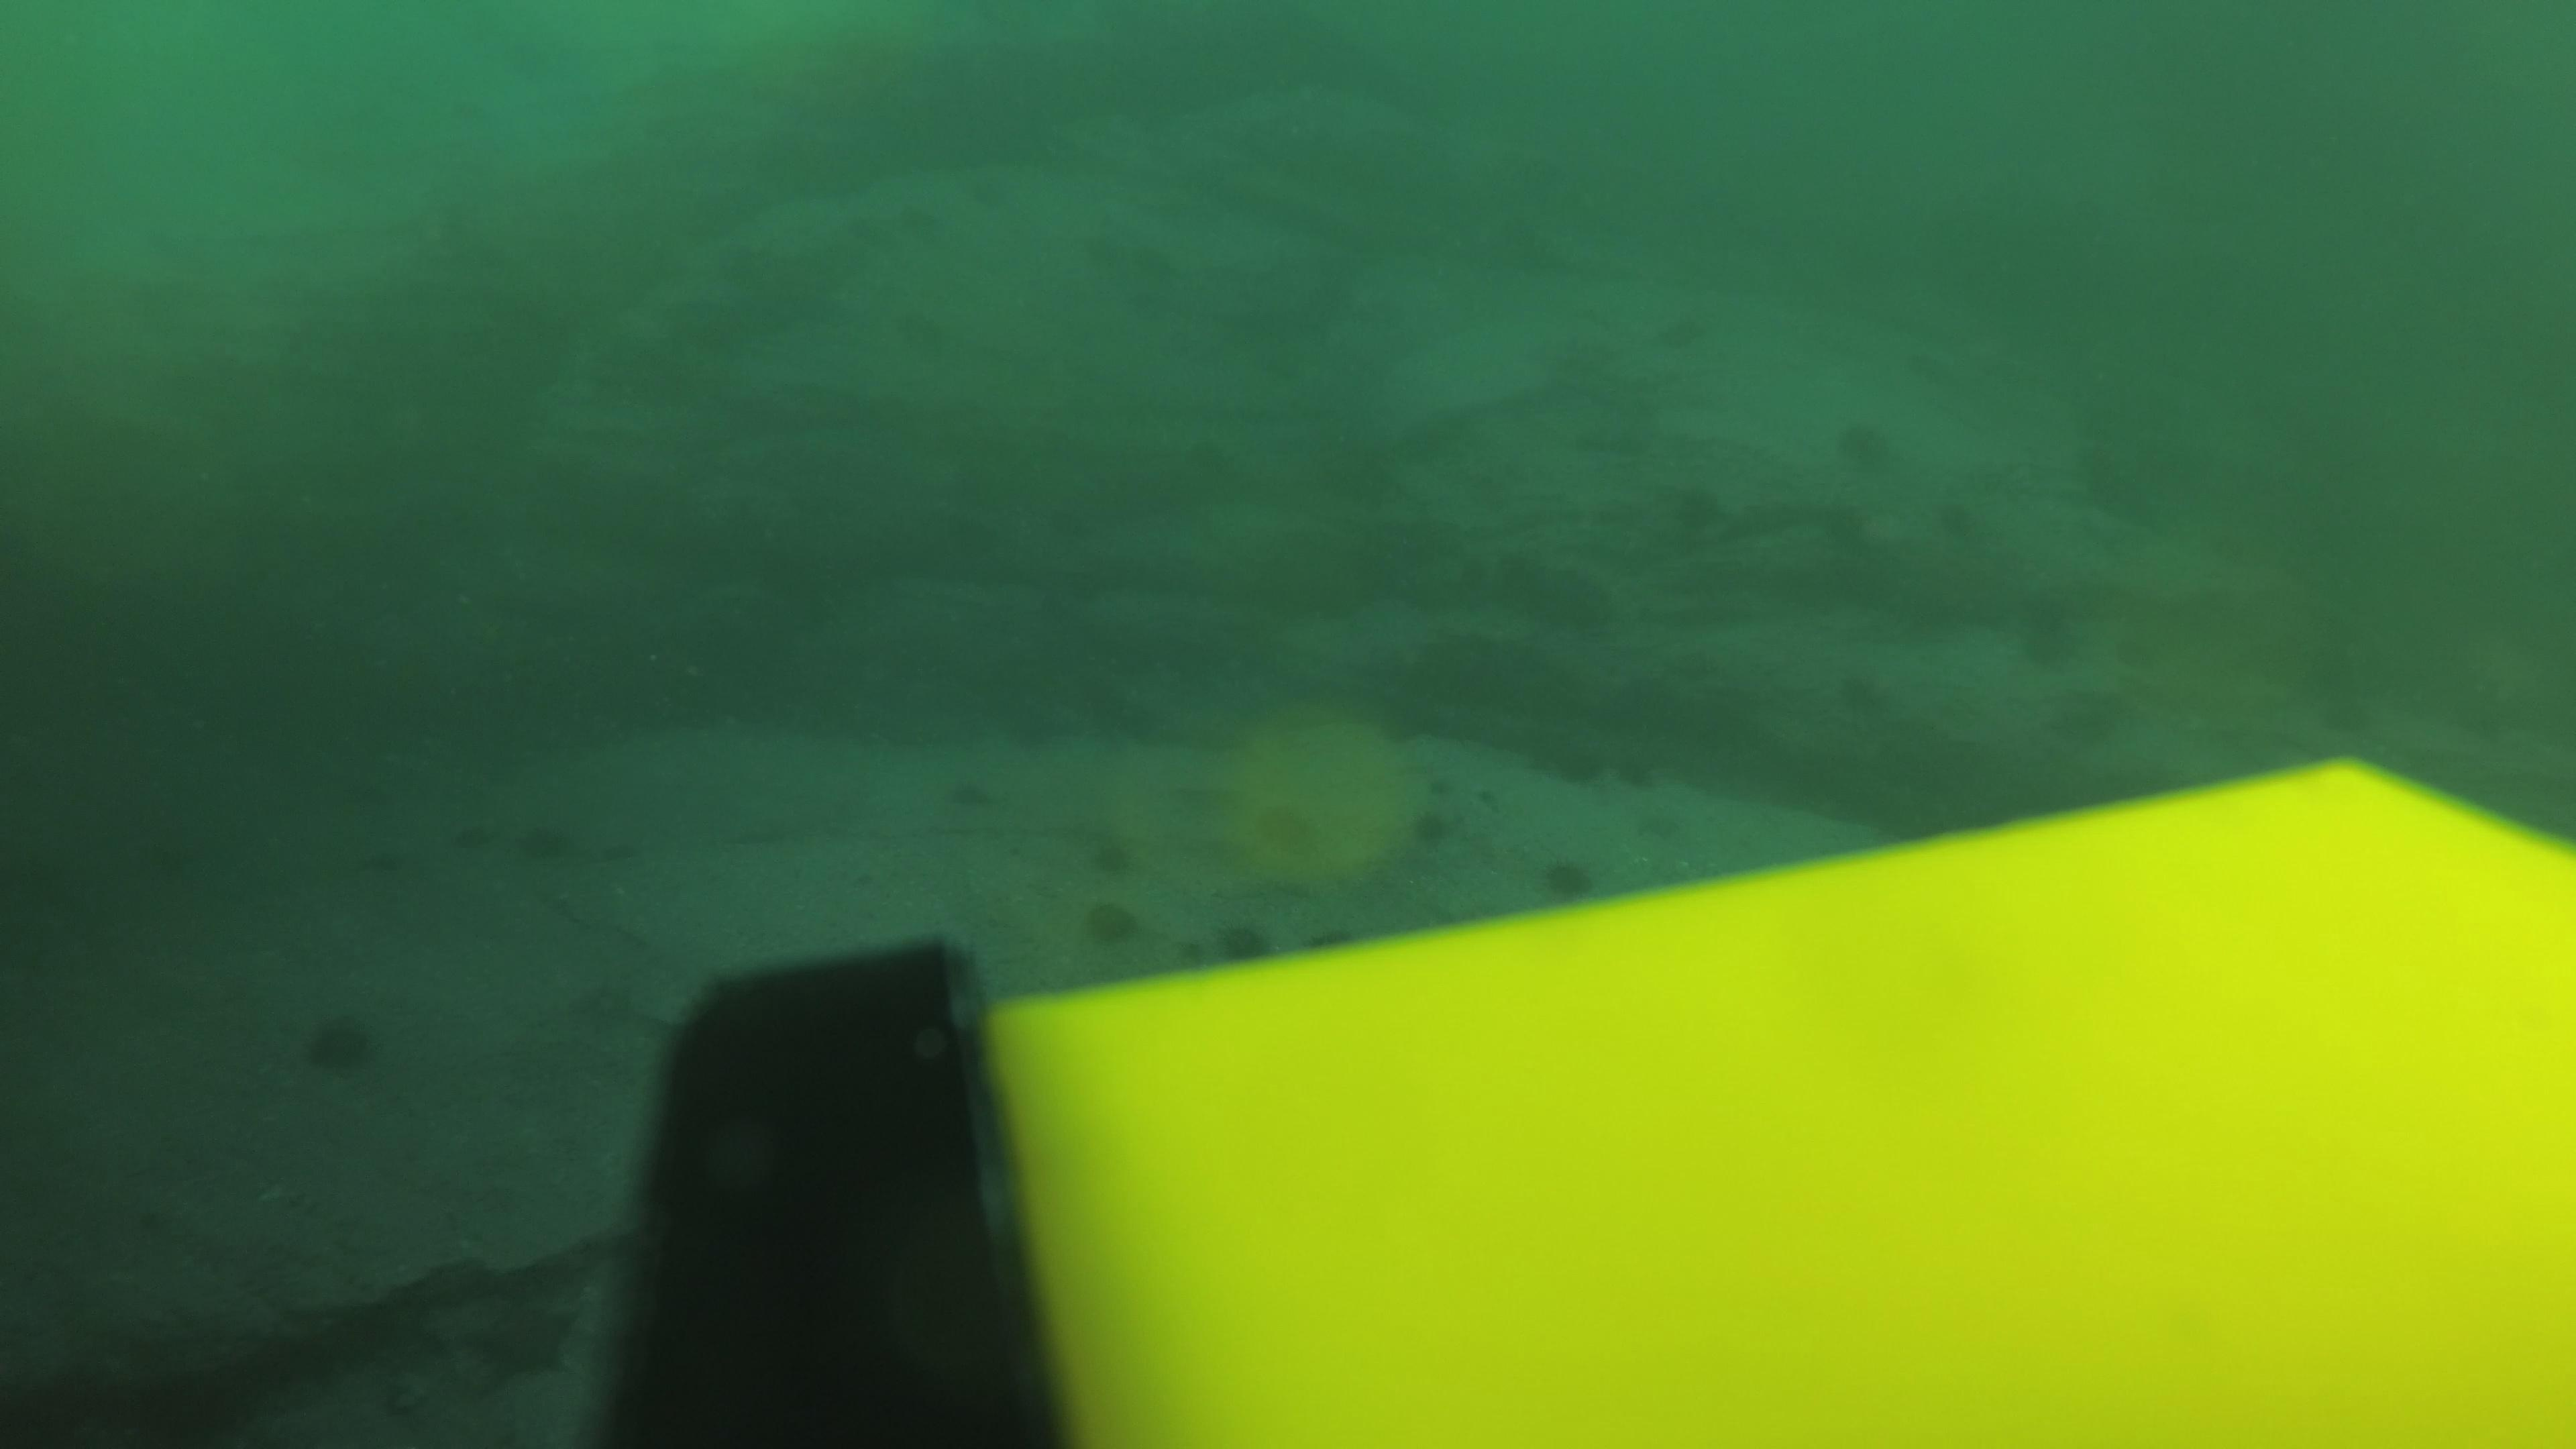echinus: (294, 1003, 387, 1081), (2008, 586, 2095, 669), (1529, 847, 1606, 913), (1203, 911, 1283, 975), (1828, 412, 1900, 478), (1074, 892, 1148, 955), (343, 754, 418, 814), (510, 812, 584, 870), (439, 810, 513, 869), (347, 835, 421, 893), (1350, 699, 1424, 757), (941, 775, 1007, 839), (1065, 679, 1131, 743), (931, 502, 996, 566), (881, 292, 947, 356), (897, 198, 962, 262), (1077, 819, 1141, 883), (984, 704, 1047, 768), (1046, 557, 1109, 621), (1035, 492, 1099, 556), (941, 456, 1005, 520), (1069, 212, 1132, 276), (1123, 228, 1187, 292), (957, 168, 1021, 232), (814, 188, 878, 251), (1559, 743, 1610, 791), (1920, 494, 1971, 541), (1844, 674, 1895, 722), (1440, 552, 1491, 600), (1668, 481, 1718, 529), (1606, 754, 1658, 800), (1403, 807, 1454, 853), (1306, 916, 1357, 962), (1819, 502, 1870, 548), (1677, 642, 1729, 688)
starfish: (467, 1293, 580, 1384)
